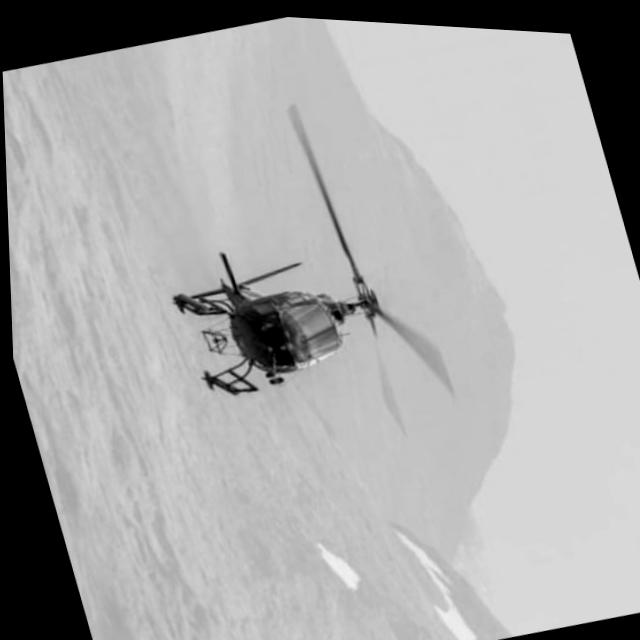helikopter: (122, 149, 435, 459)
